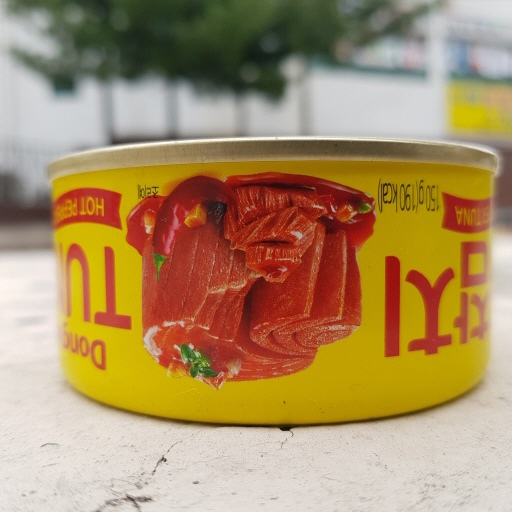Metal_1: (41, 134, 502, 423)
